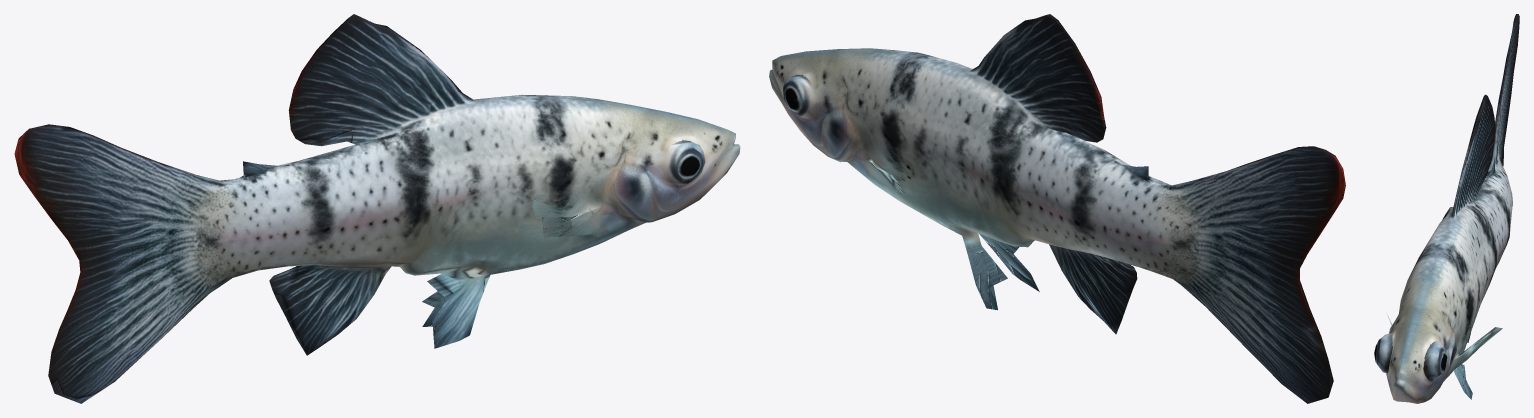
The model's file is tropicalfish_a6_single_1500.glb.
3 views of the same model, side by side, from view 1: azimuth 30°, elevation 25°; view 2: azimuth 150°, elevation 25°; view 3: azimuth 270°, elevation 25° (orthographic). The views are drawn at different scales.
Bounding box in the file's own units: 0.9074 × 0.4347 × 0.2057.
Materials: 1 (1 with a texture image).
